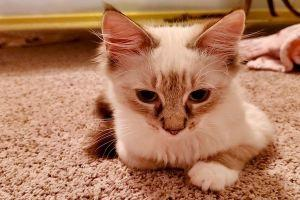siamese: (97, 1, 249, 151)
